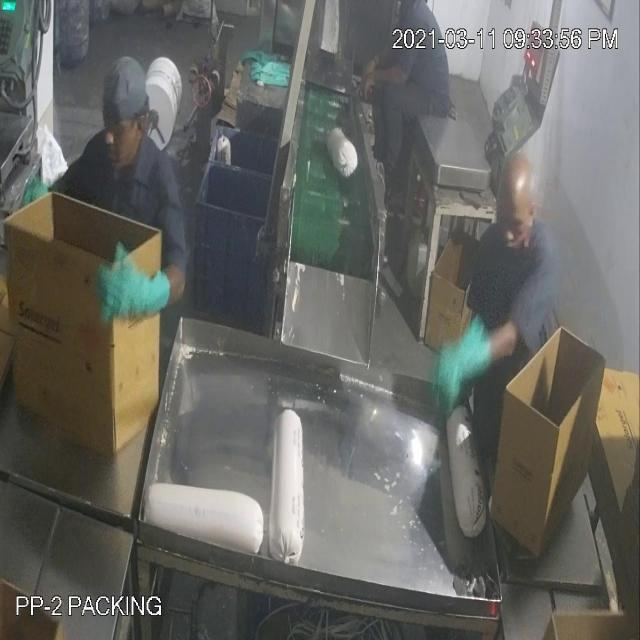No_Gloves: (354, 54, 420, 110)
